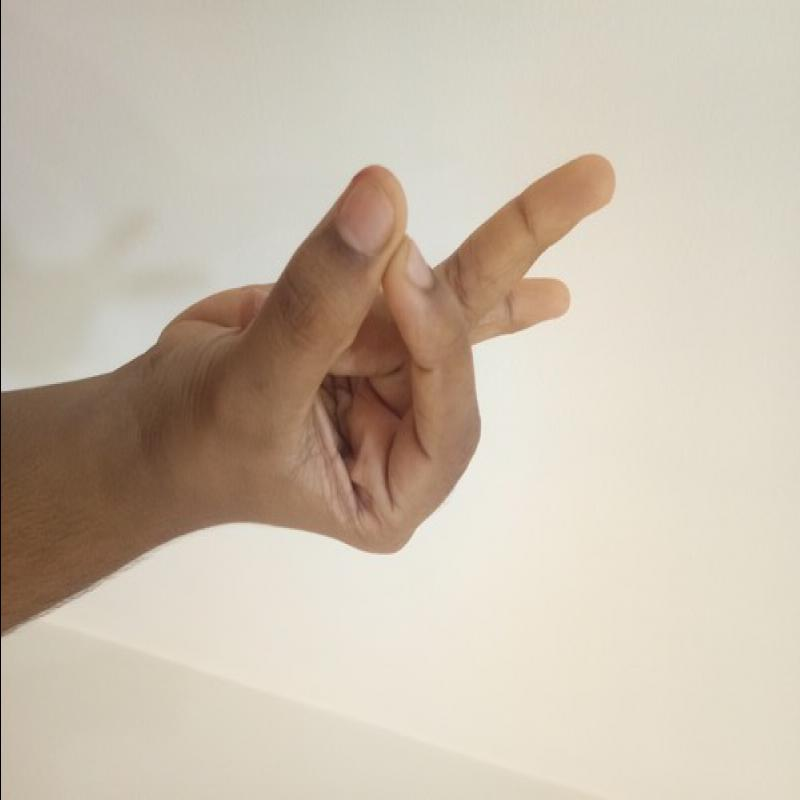Katakam: (125, 137, 628, 563)
